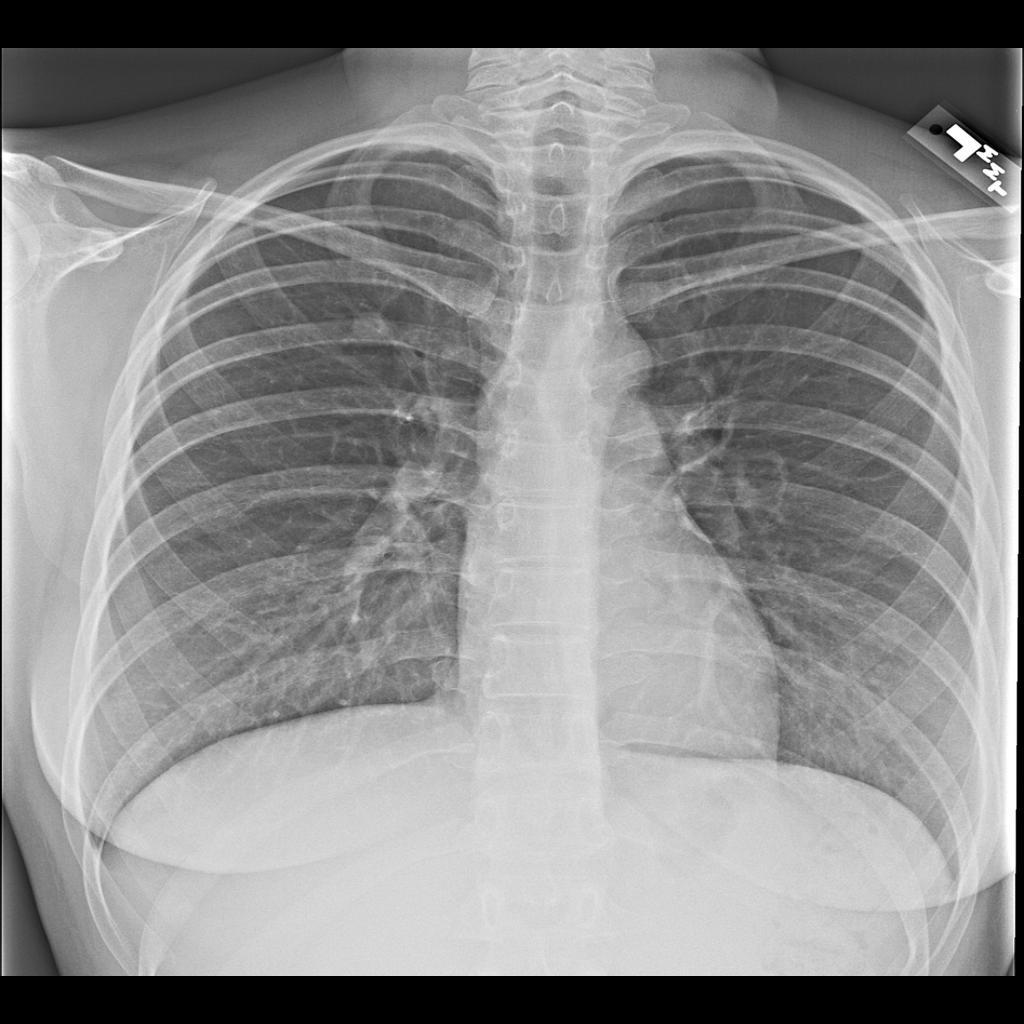Nodule: (348, 301, 398, 358)
